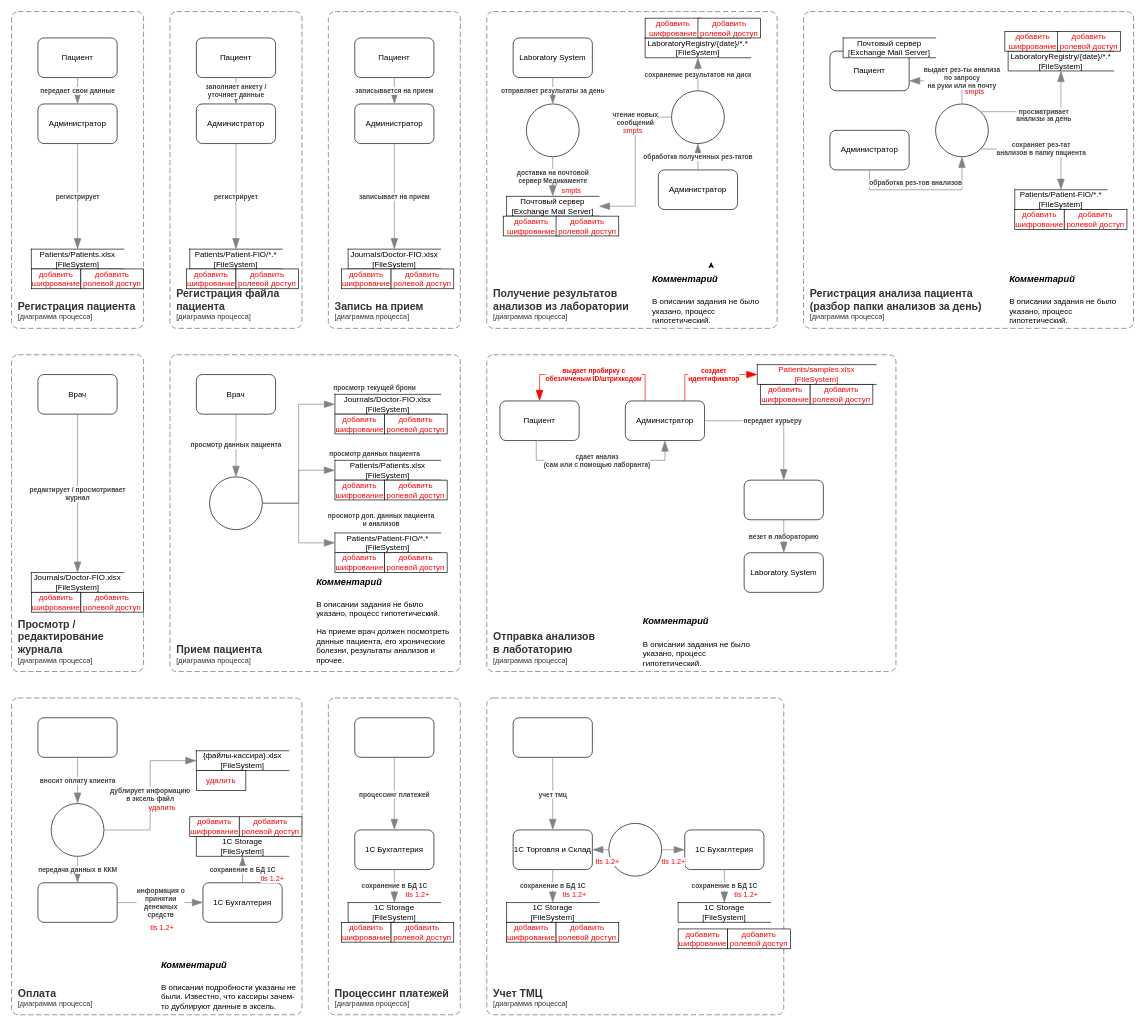
This 1145x1028 diagram has some shape labels left out. The shapes that lost their labels are listed below. From the top down, each one's centre as x and y in pixels, then its label:
the point at 552,130: отправка результатов по SMTP
the point at 697,117: обработка почты
the point at 961,130: регистрация рез-тов анализов
the point at 235,503: обработка информации о пациенте
the point at 783,499: Курьер
the point at 77,737: Кассир
the point at 394,737: Бухгалтер
the point at 552,737: Сотрудник склада
the point at 77,829: обработка платежа
the point at 635,849: синхронизация
the point at 77,902: Контрольно-кассовая машина
